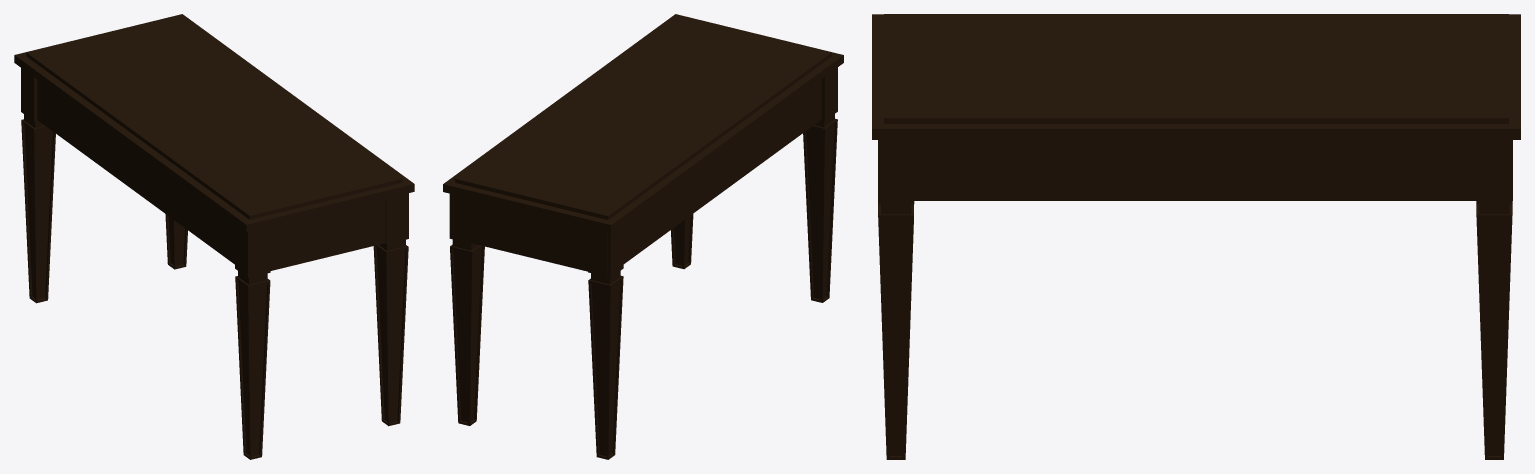
Rendered from Table.FBX.
3 views of the same model, side by side, from view 1: azimuth 30°, elevation 25°; view 2: azimuth 150°, elevation 25°; view 3: azimuth 270°, elevation 25° (orthographic). The views are drawn at different scales.
Parts seen in each view (by area): view 1: Box001; view 2: Box001; view 3: Box001.
Part boxes in pixels (x1=…): Box001: x1=14, y1=14, x2=414, y2=459; Box001: x1=443, y1=14, x2=843, y2=459; Box001: x1=872, y1=14, x2=1520, y2=459.
Bounding box in the file's own units: 22.35 × 31.15 × 53.47.
